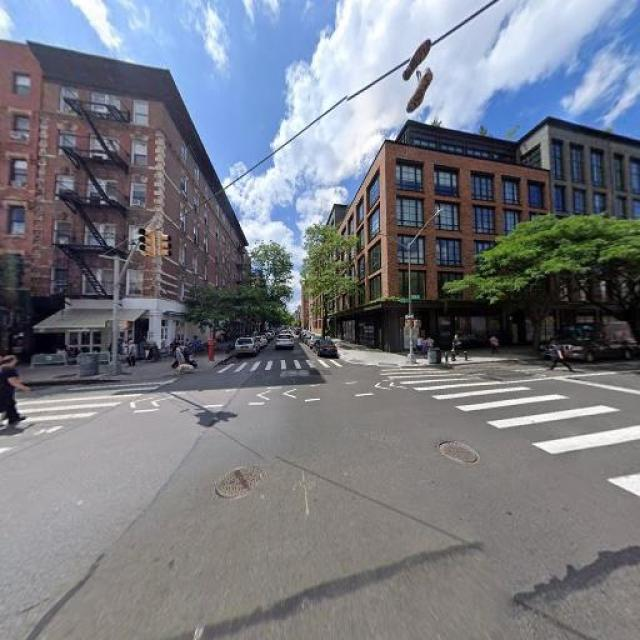Building: (37, 53, 248, 370), (337, 143, 554, 358)
